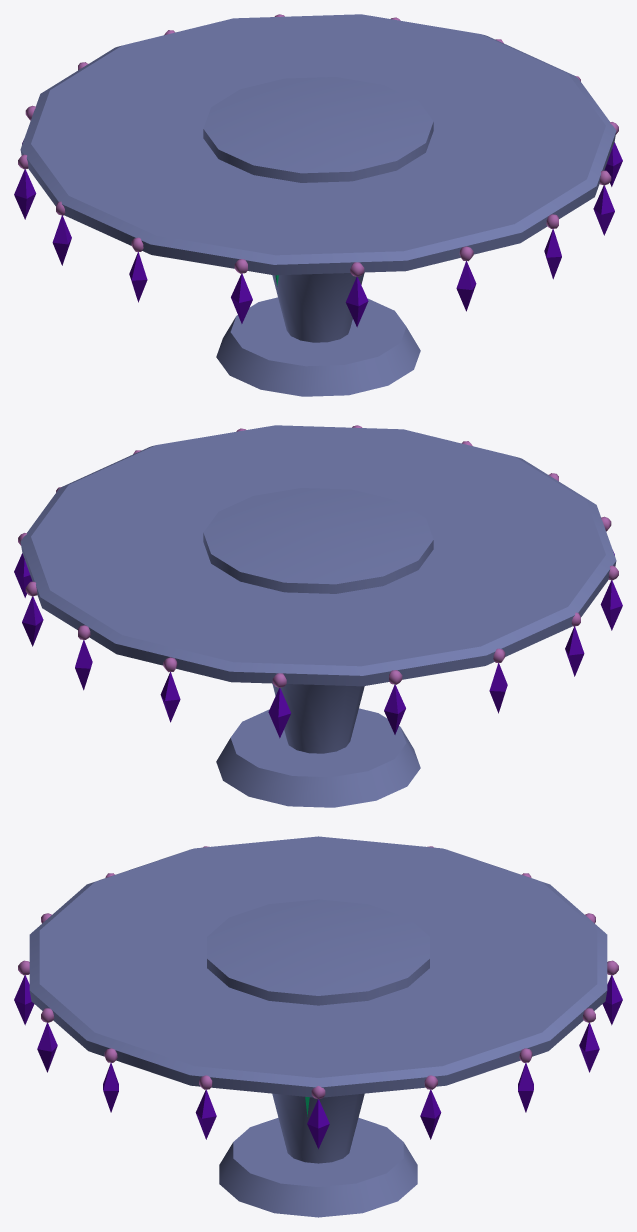
File: L3_table.fbx
The picture shows the model from 3 angles, top to bottom: view 1: azimuth 30°, elevation 25°; view 2: azimuth 150°, elevation 25°; view 3: azimuth 270°, elevation 25°; orthographic projection.
Parts seen in each view (by area): view 1: L3_table; view 2: L3_table; view 3: L3_table.
Boxes of the visible parts, x1,y1,x2,y2 form: L3_table: (14, 14, 622, 396); L3_table: (14, 425, 622, 807); L3_table: (14, 836, 622, 1217).
Size of the model in its own units: 74.85 by 31.79 by 74.85.
